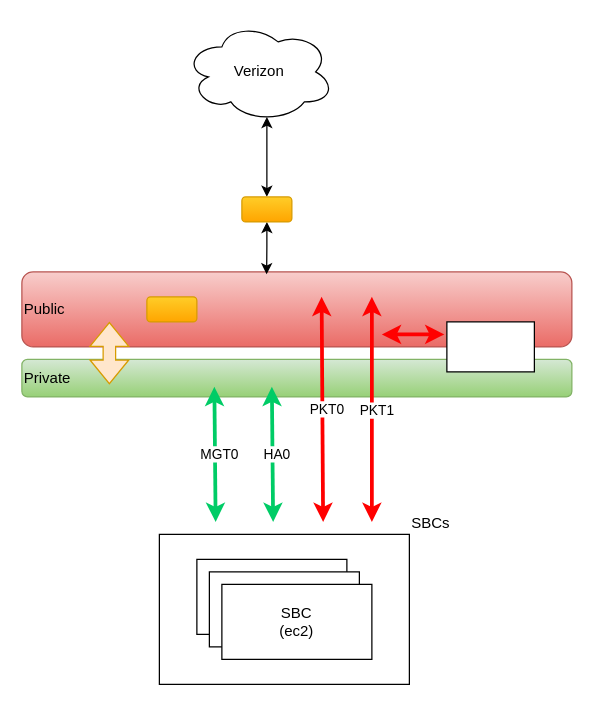
Some shapes in this 594 by 706 pixel diagram are drawn without their labels. The shapes that lost their labels are listed below. From the top down, each one's box as (x1, y1, x2, y2) in pixels, then its label:
(241, 196, 292, 222): IGW
(146, 296, 197, 322): NGW
(446, 321, 534, 372): ipsec (ec2)
